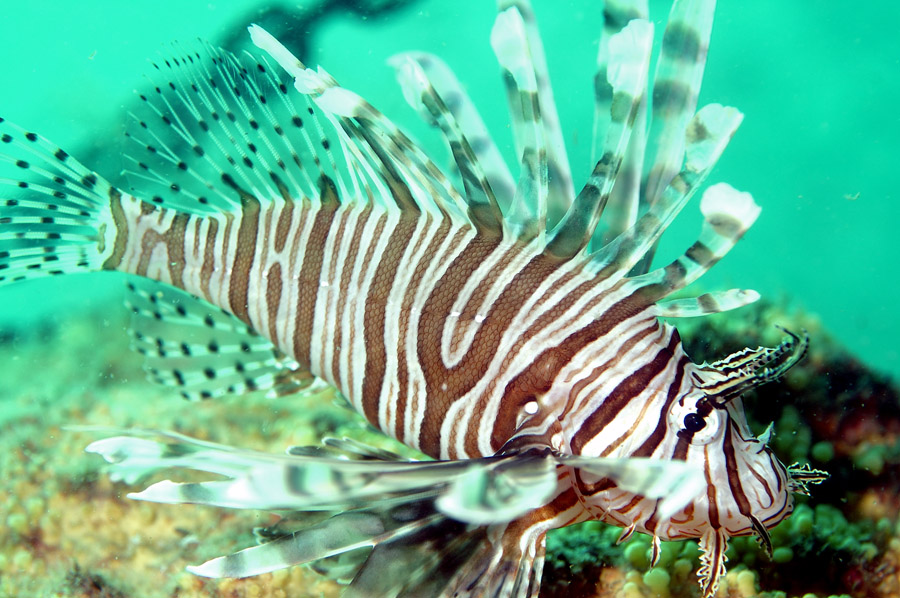Pterois_volitans: (2, 6, 836, 570)
